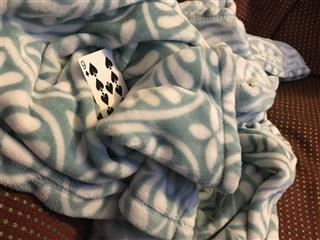NineOfSpades: (77, 48, 129, 118)
